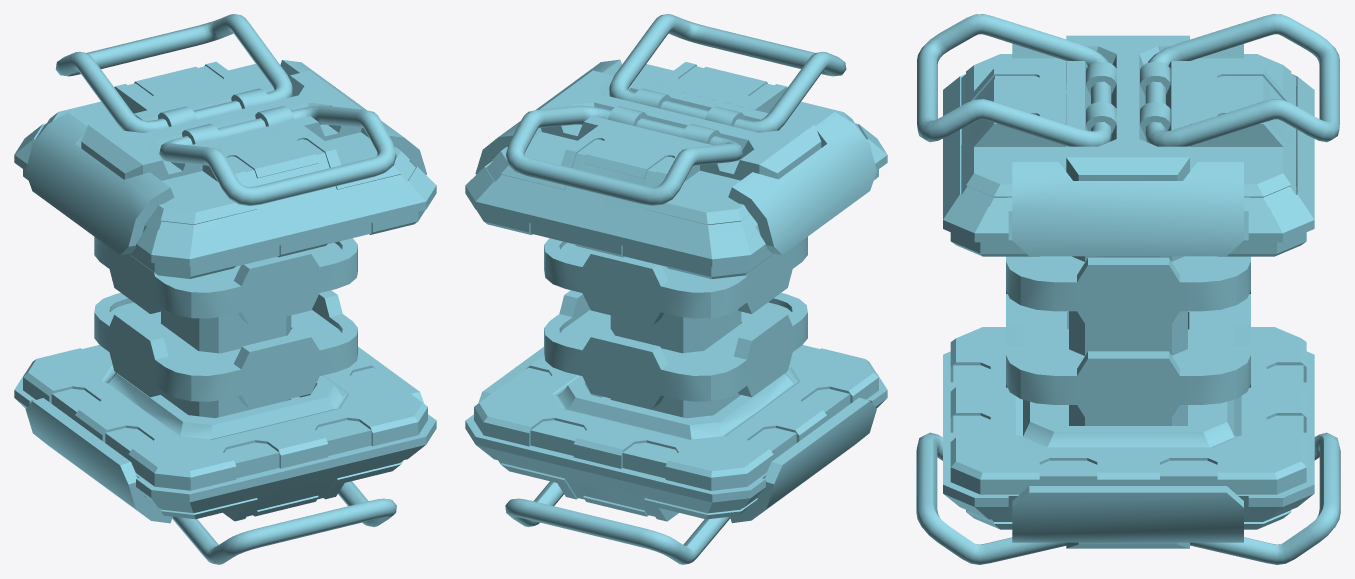
File: obj_interactive_gravelcollector_pose0.fbx
The picture shows the model from 3 angles, left to right: view 1: azimuth 30°, elevation 25°; view 2: azimuth 150°, elevation 25°; view 3: azimuth 270°, elevation 25°; orthographic projection. The views are drawn at different scales.
Parts seen in each view (by area): view 1: part4_lp.002, part7_lp; view 2: part4_lp.002, part7_lp; view 3: part4_lp.002, part7_lp.
Boxes of the visible parts, bbox=[...] form: part4_lp.002: bbox=[14, 60, 436, 523]; part7_lp: bbox=[35, 14, 415, 564]; part4_lp.002: bbox=[465, 59, 887, 522]; part7_lp: bbox=[486, 14, 866, 564]; part4_lp.002: bbox=[943, 35, 1314, 548]; part7_lp: bbox=[916, 14, 1340, 564].
Bounding box in the file's own units: 6.31 × 8.3 × 6.86.
